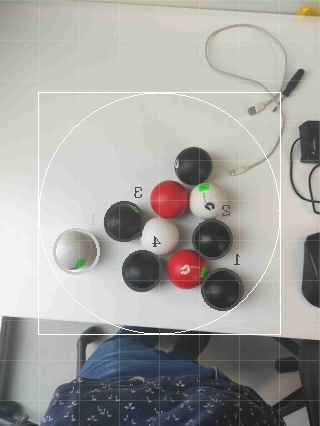Pelota blanca: (205, 23, 292, 102), (53, 228, 103, 275), (122, 249, 161, 294), (189, 180, 230, 222), (141, 217, 180, 256)
Pelota negra: (39, 334, 313, 425), (199, 268, 246, 312), (191, 217, 233, 262), (103, 198, 145, 243), (122, 249, 161, 294), (173, 145, 214, 187)
Pelota roja: (167, 246, 207, 291), (149, 180, 191, 219)
